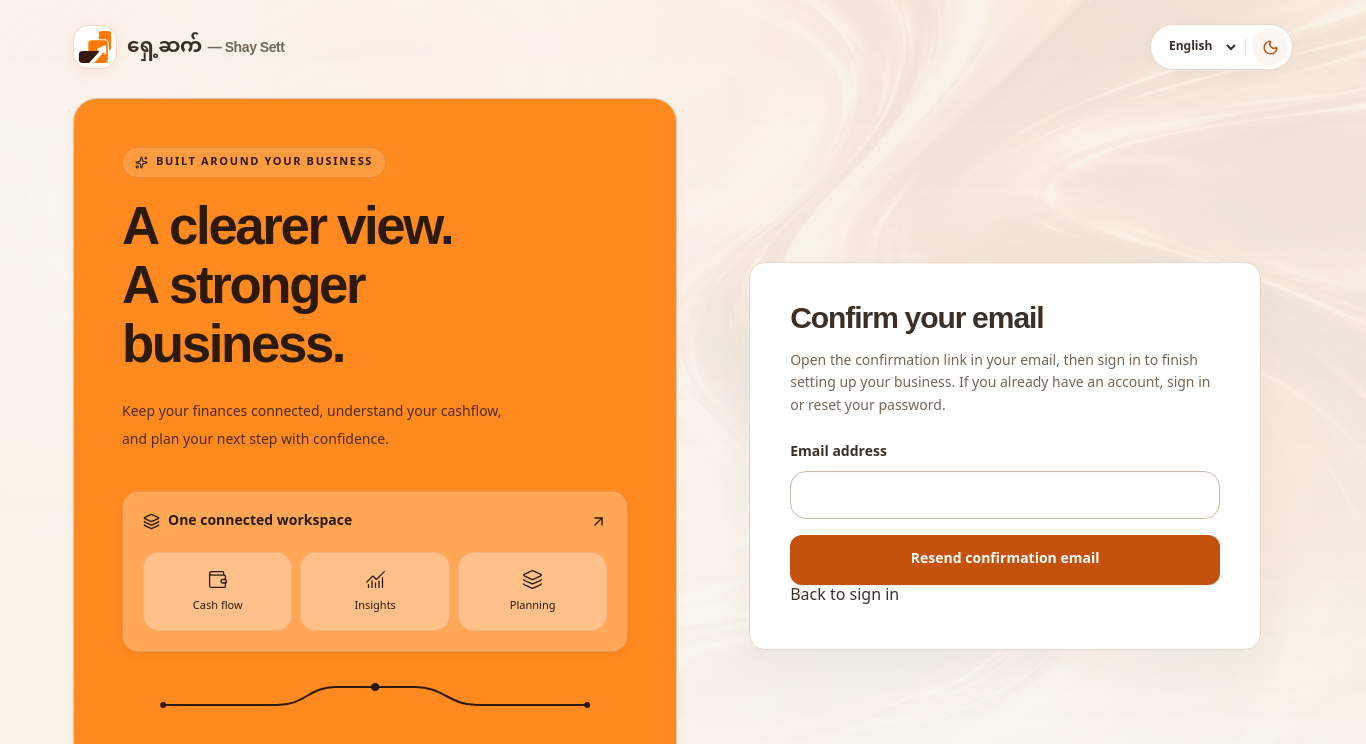
Account UI › lets an existing user request a confirmation email
The image size is (1366, 744).
Expected: the heading "Confirm your email" is shown, [790, 288, 1044, 354]
Type "owner@example.test" into the field labelled "Email address".
click(1005, 495); type("owner@example.test")  # box [790, 471, 1220, 519]
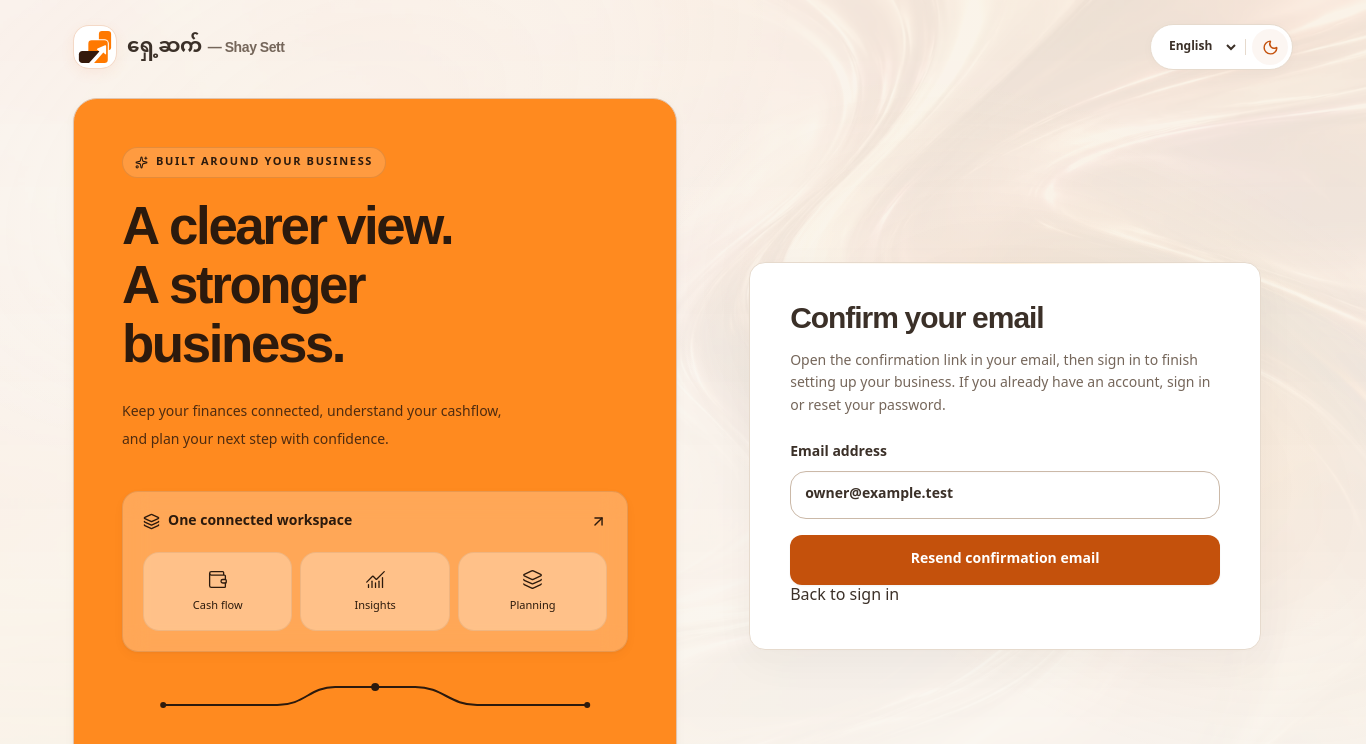
Click the button "Resend confirmation email".
click(1005, 560)  # box [790, 535, 1220, 585]
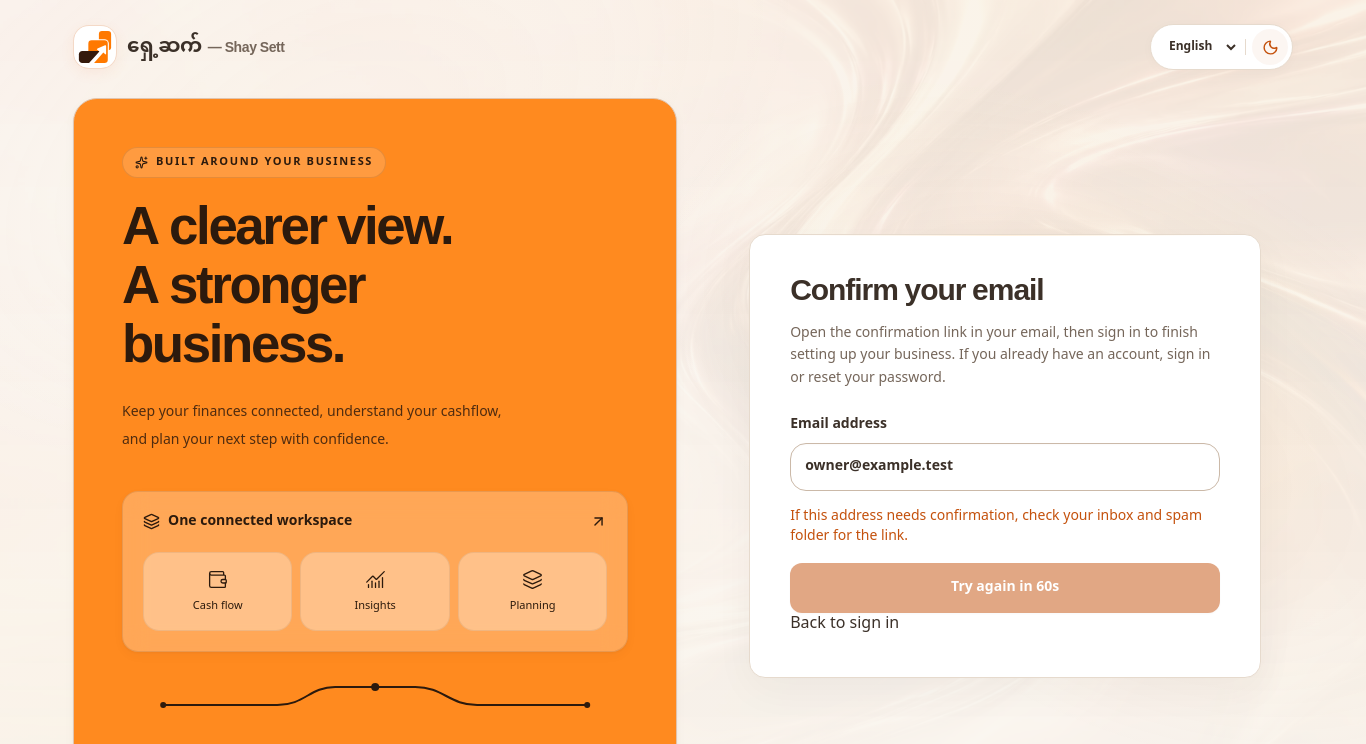
Expected: the message shows "check your inbox", [790, 501, 1202, 552]
